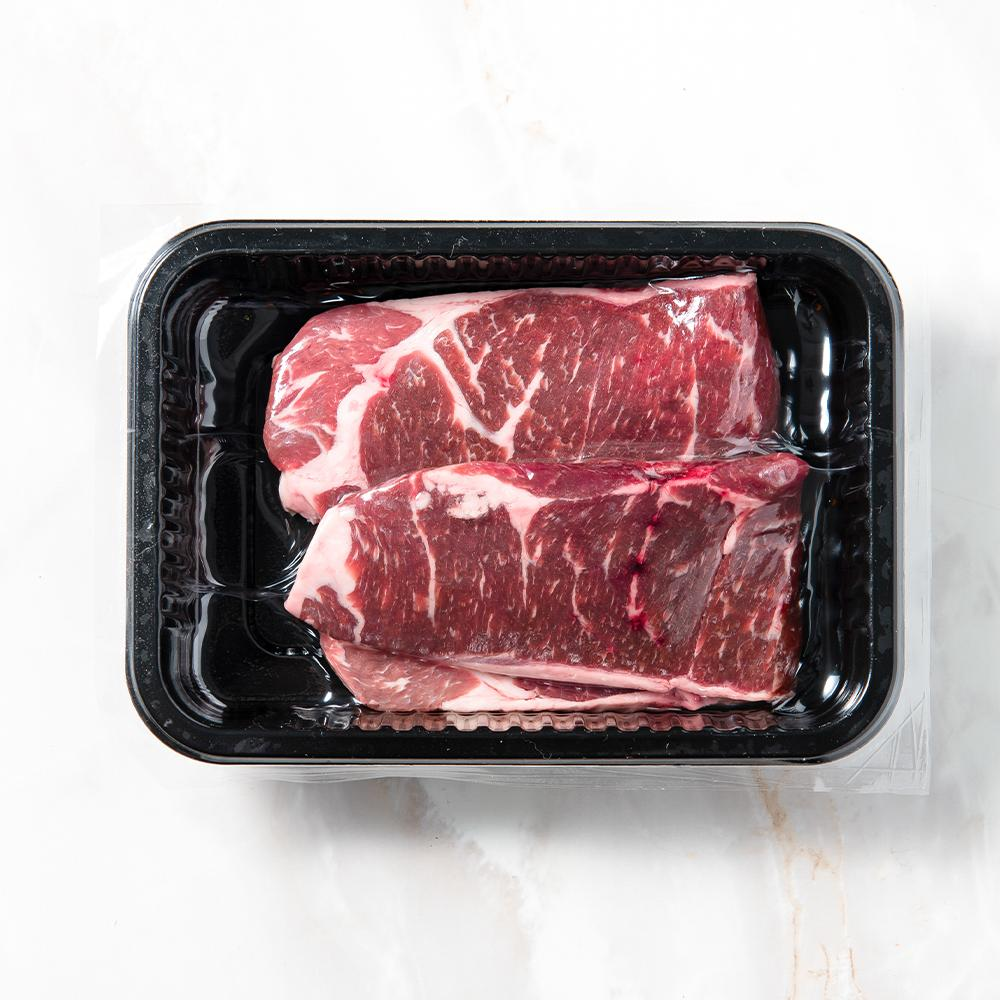beef: (381, 462, 1000, 1000)
